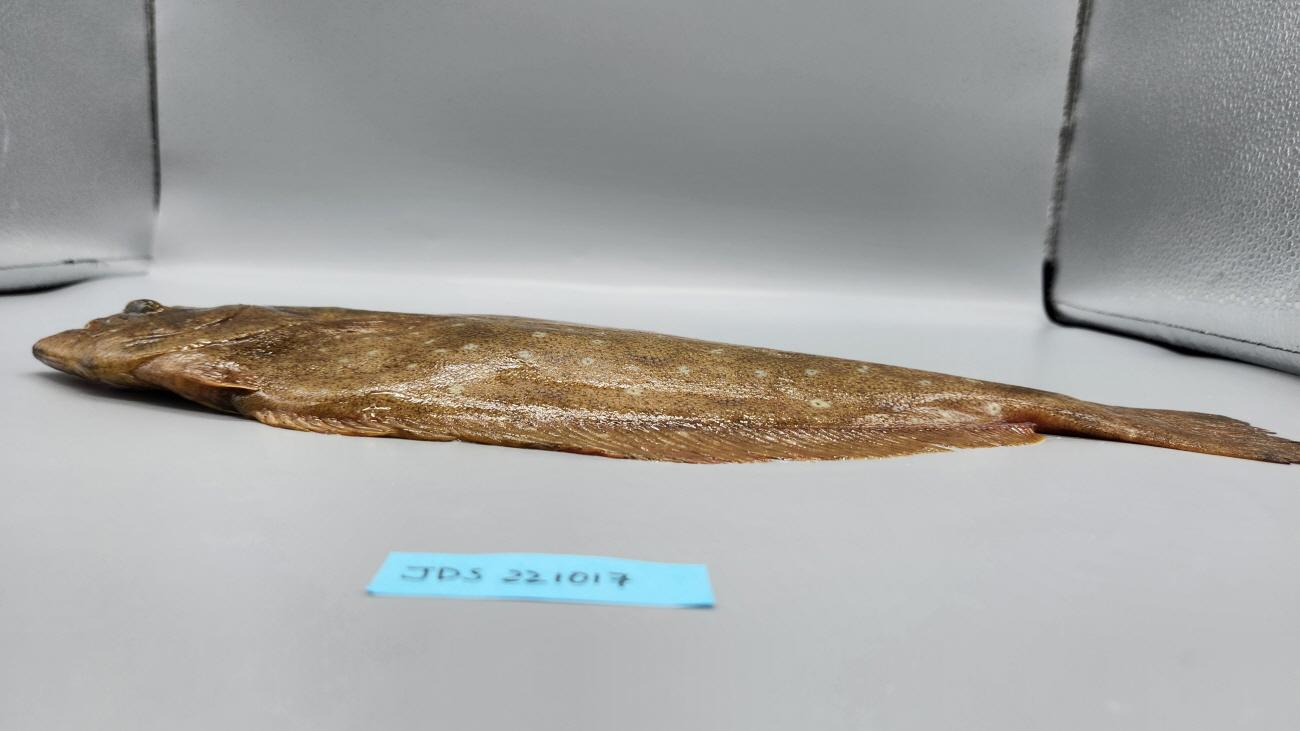POOUN: (32, 297, 1300, 464)
